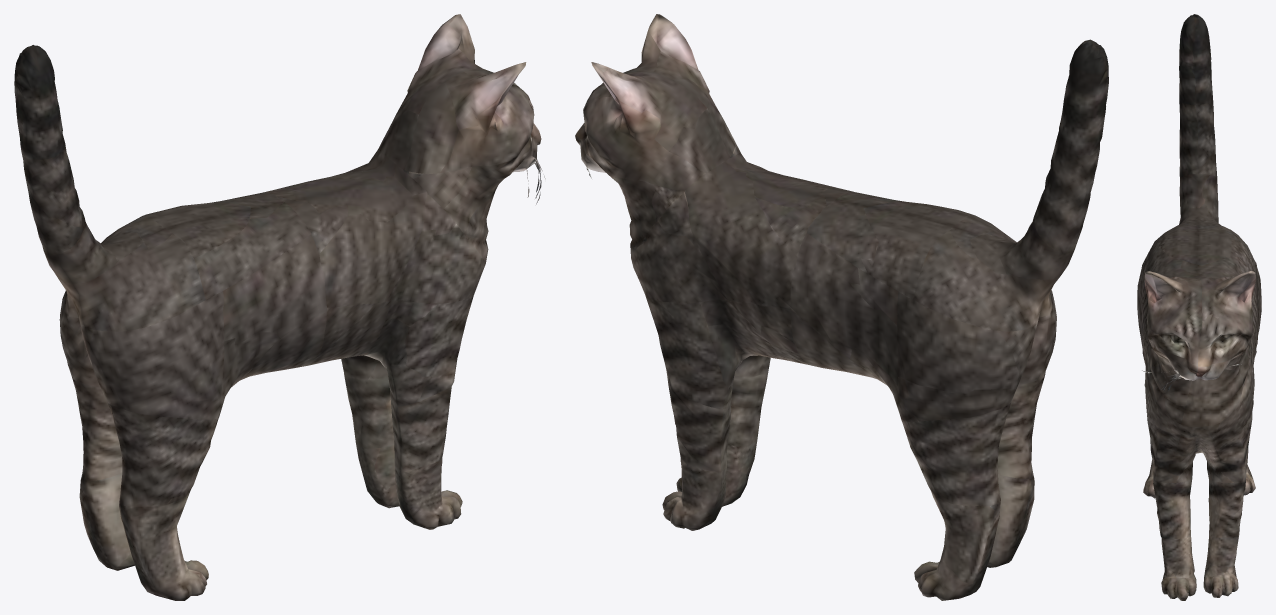
The model's file is NORAKEYS-lo.glb.
3 renders of one model, left to right at view 1: azimuth 30°, elevation 25°; view 2: azimuth 150°, elevation 25°; view 3: azimuth 270°, elevation 25°, orthographic. The views are drawn at different scales.
Visible parts, largest first — view 1: tripo_node_44045ed2-9b21-483a-ada4-564044b7adbf; view 2: tripo_node_44045ed2-9b21-483a-ada4-564044b7adbf; view 3: tripo_node_44045ed2-9b21-483a-ada4-564044b7adbf.
Part boxes in pixels (x1,y1,x2,y2): tripo_node_44045ed2-9b21-483a-ada4-564044b7adbf: (14, 14, 545, 600); tripo_node_44045ed2-9b21-483a-ada4-564044b7adbf: (575, 14, 1108, 600); tripo_node_44045ed2-9b21-483a-ada4-564044b7adbf: (1137, 14, 1261, 600).
Size of the model in its own units: 0.9765 by 0.9998 by 0.2609.
Materials: 1 (1 with a texture image).
